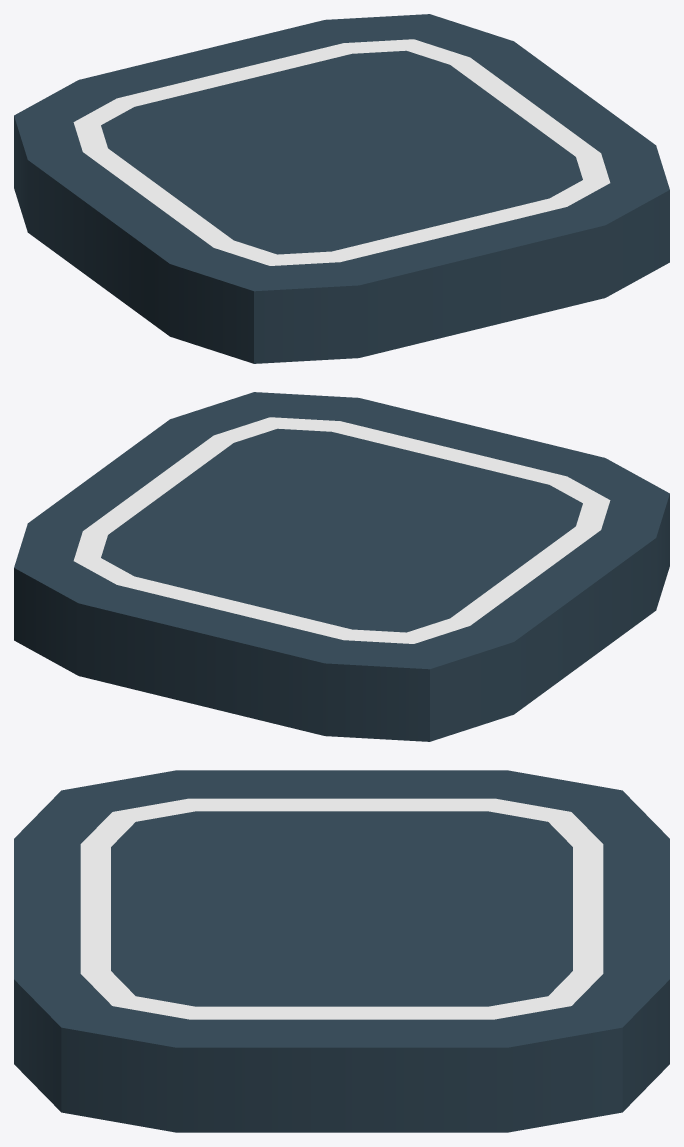
File: Portal_002.fbx
3 views of the same model, one above another, from view 1: azimuth 30°, elevation 25°; view 2: azimuth 150°, elevation 25°; view 3: azimuth 270°, elevation 25° (orthographic). The views are drawn at different scales.
Visible parts, largest first — view 1: Portal.002; view 2: Portal.002; view 3: Portal.002.
Part boxes in pixels (x1,y1,x2,y2): Portal.002: (14, 14, 669, 363); Portal.002: (14, 392, 669, 741); Portal.002: (14, 770, 669, 1132).
Size of the model in its own units: 70 by 10 by 70.
